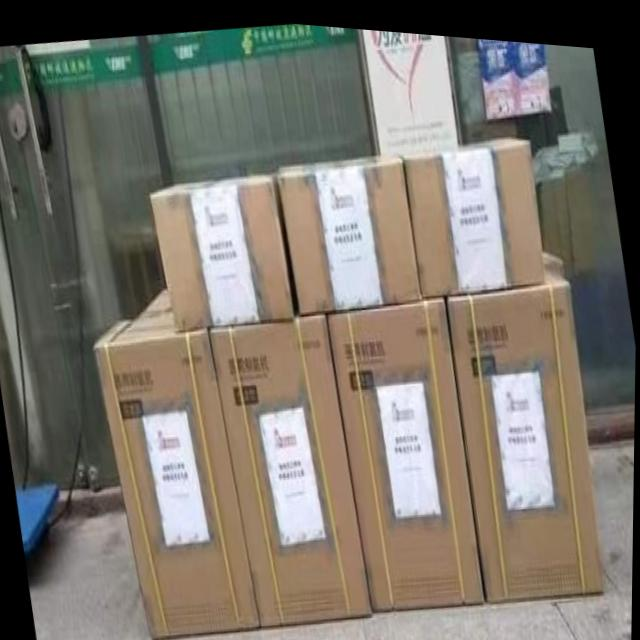box: (447, 254, 606, 594), (95, 314, 262, 636), (208, 309, 373, 624), (325, 290, 486, 605), (278, 144, 421, 312), (403, 128, 547, 292), (150, 172, 296, 326), (138, 283, 172, 318)
